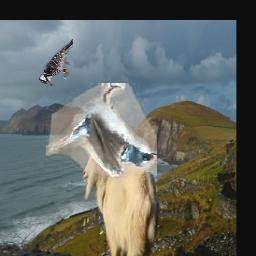Swallow: (47, 83, 158, 179)
Woodpecker: (39, 40, 74, 87)
